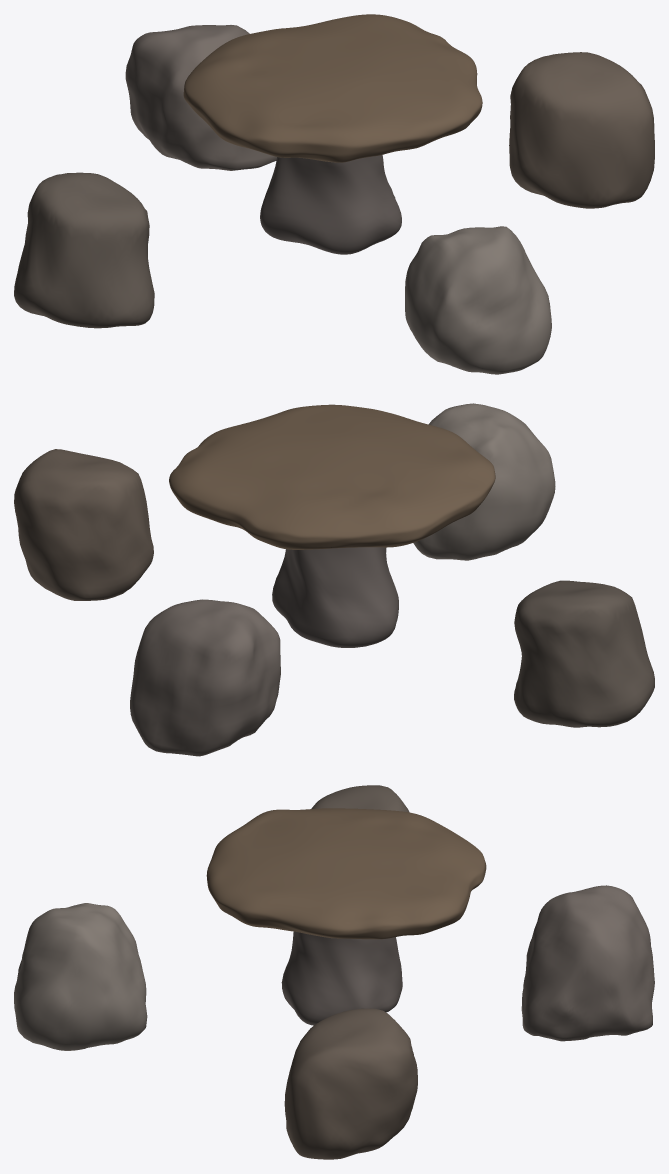
The model's file is Table Set 1.fbx.
3 renders of one model, top to bottom at view 1: azimuth 30°, elevation 25°; view 2: azimuth 150°, elevation 25°; view 3: azimuth 270°, elevation 25°, orthographic. The views are drawn at different scales.
Parts seen in each view (by area): view 1: Cube.001, rock.002, rock.005, rock.001, table neck, rock.003; view 2: Cube.001, rock.003, rock.005, rock.002, rock.001, table neck; view 3: Cube.001, rock.003, rock.001, rock.002, table neck, rock.005.
Part boxes in pixels (x1,y1,x2,y2): Cube.001: [183, 14, 482, 162]; rock.002: [509, 52, 654, 208]; rock.005: [14, 172, 154, 328]; rock.001: [405, 226, 551, 374]; table neck: [260, 155, 401, 254]; rock.003: [125, 25, 276, 170]; Cube.001: [169, 404, 495, 549]; rock.003: [130, 599, 280, 756]; rock.005: [514, 580, 654, 727]; rock.002: [14, 449, 153, 600]; rock.001: [413, 403, 555, 560]; table neck: [272, 547, 398, 647]; Cube.001: [206, 808, 486, 939]; rock.003: [521, 885, 654, 1041]; rock.001: [14, 903, 147, 1050]; rock.002: [284, 1008, 417, 1159]; table neck: [281, 931, 402, 1025]; rock.005: [311, 785, 409, 812].
Size of the model in its own units: 228 by 68.07 by 216.
